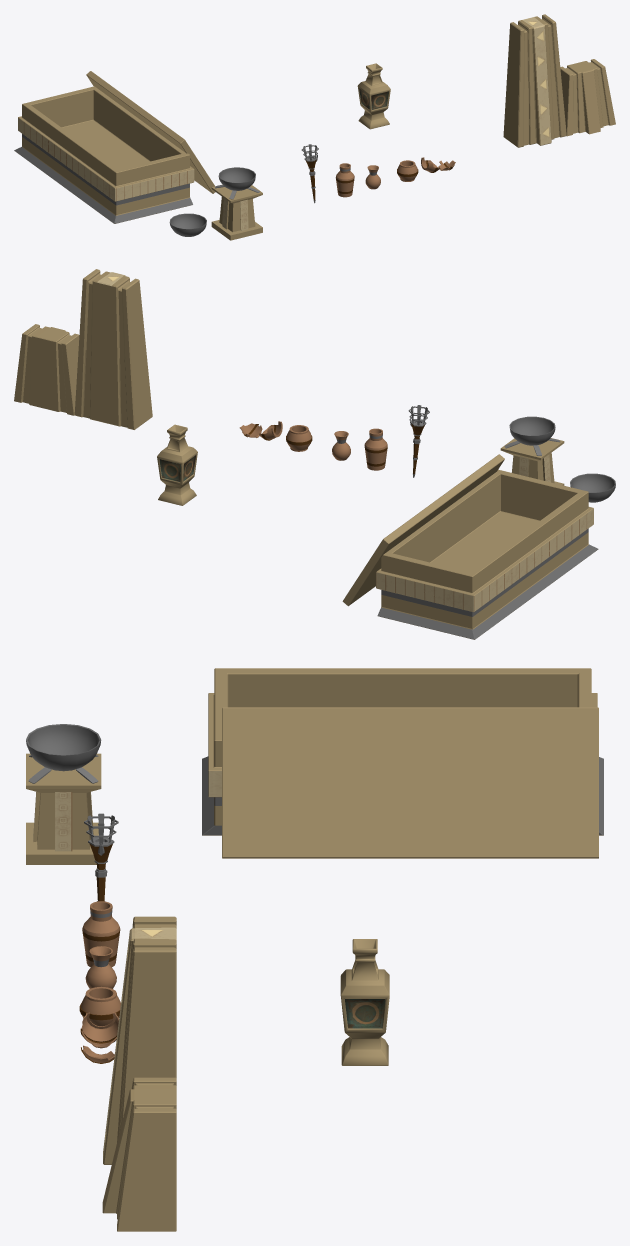
Rendered from F3PS__props.fbx.
3 views of the same model, one above another, from view 1: azimuth 30°, elevation 25°; view 2: azimuth 150°, elevation 25°; view 3: azimuth 270°, elevation 25° (orthographic). The views are drawn at different scales.
Parts seen in each view (by area): view 1: F3PS_prop_coffin1, F3PS_prop_block1a, F3PS_Prop_block1b, F3PS_prop_block_bowl, F3PS_prop_coffin1_lid, F3PS_prop_block2, F3PS_prop_bowl, F3PS_Prop_vase1, F3PS_prop_Torch, F3PS_Prop_vase2, F3PS_Prop_vase2.001; view 2: F3PS_prop_coffin1, F3PS_prop_block1a, F3PS_Prop_block1b, F3PS_prop_coffin1_lid, F3PS_prop_block_bowl, F3PS_prop_block2, F3PS_prop_bowl, F3PS_Prop_vase1, F3PS_prop_Torch, F3PS_Prop_vase2, F3PS_Prop_vase2.001; view 3: F3PS_prop_coffin1_lid, F3PS_prop_coffin1, F3PS_prop_block1a, F3PS_prop_block_bowl, F3PS_Prop_block1b, F3PS_prop_block2, F3PS_Prop_vase1, F3PS_prop_Torch, F3PS_Prop_vase2, F3PS_Prop_vase2.001, F3PS_Prop_vase3.
Part boxes in pixels (box(x1,y1,x2,y2)): F3PS_prop_coffin1: box(14, 86, 194, 223); F3PS_prop_block1a: box(503, 14, 566, 147); F3PS_Prop_block1b: box(560, 59, 615, 136); F3PS_prop_block_bowl: box(211, 167, 262, 240); F3PS_prop_coffin1_lid: box(86, 71, 215, 193); F3PS_prop_block2: box(357, 63, 390, 129); F3PS_prop_bowl: box(169, 213, 206, 236); F3PS_Prop_vase1: box(335, 163, 354, 197); F3PS_prop_Torch: box(301, 144, 318, 203); F3PS_Prop_vase2: box(397, 160, 418, 181); F3PS_Prop_vase2.001: box(421, 157, 455, 172); F3PS_prop_coffin1: box(376, 469, 598, 639); F3PS_prop_block1a: box(74, 269, 152, 429); F3PS_Prop_block1b: box(14, 324, 79, 415); F3PS_prop_coffin1_lid: box(342, 454, 504, 606); F3PS_prop_block_bowl: box(500, 416, 564, 485); F3PS_prop_block2: box(157, 424, 197, 505); F3PS_prop_bowl: box(570, 473, 615, 502); F3PS_Prop_vase1: box(364, 428, 387, 470); F3PS_prop_Torch: box(408, 405, 429, 477); F3PS_Prop_vase2: box(286, 425, 312, 451); F3PS_Prop_vase2.001: box(239, 421, 282, 440); F3PS_prop_coffin1_lid: box(222, 707, 598, 858); F3PS_prop_coffin1: box(202, 668, 603, 835); F3PS_prop_block1a: box(103, 916, 176, 1164); F3PS_prop_block_bowl: box(26, 724, 101, 864); F3PS_Prop_block1b: box(102, 1077, 176, 1231); F3PS_prop_block2: box(340, 939, 389, 1065); F3PS_Prop_vase1: box(82, 901, 120, 967); F3PS_prop_Torch: box(84, 813, 118, 901); F3PS_Prop_vase2: box(79, 986, 120, 1026); F3PS_Prop_vase2.001: box(80, 1012, 118, 1063); F3PS_Prop_vase3: box(85, 946, 116, 988).
Bounding box in the file's own units: 1471 × 336 × 767.
